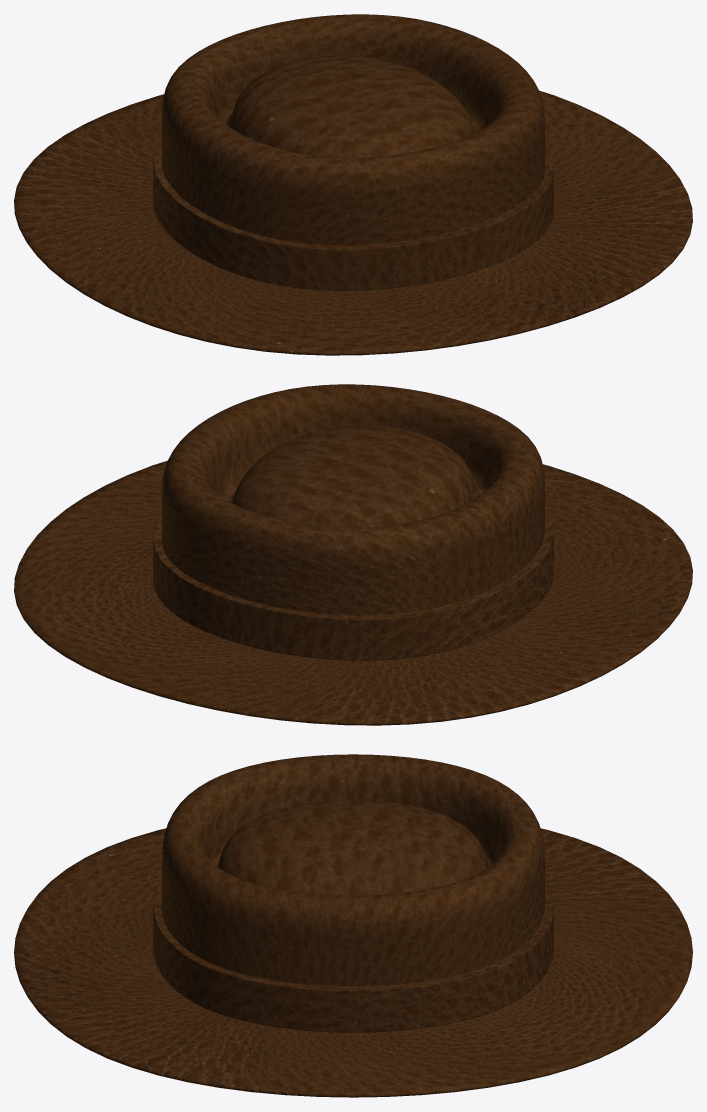
Rendered from sombrero.glb.
3 renders of one model, top to bottom at view 1: azimuth 30°, elevation 25°; view 2: azimuth 150°, elevation 25°; view 3: azimuth 270°, elevation 25°, orthographic. The views are drawn at different scales.
Parts seen in each view (by area): view 1: Plano; view 2: Plano; view 3: Plano.
Part boxes in pixels (box(x1,y1,x2,y2)): Plano: box(14, 14, 692, 355); Plano: box(14, 384, 692, 725); Plano: box(14, 754, 692, 1097).
Bounding box in the file's own units: 5.22 × 1.09 × 5.22.
Materials: 1 (1 with a texture image).
